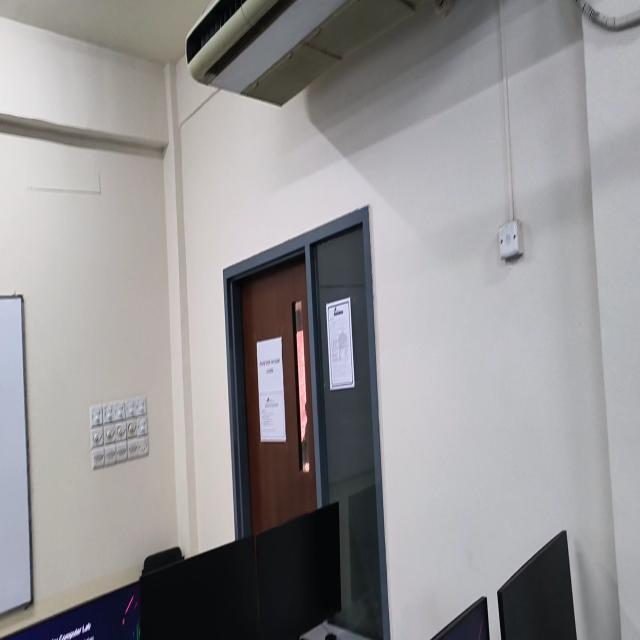Ac: (185, 0, 454, 106), (511, 619, 519, 632)
Monitor: (140, 503, 340, 639), (256, 503, 341, 639), (498, 531, 576, 639), (4, 581, 140, 639), (432, 596, 489, 639)
